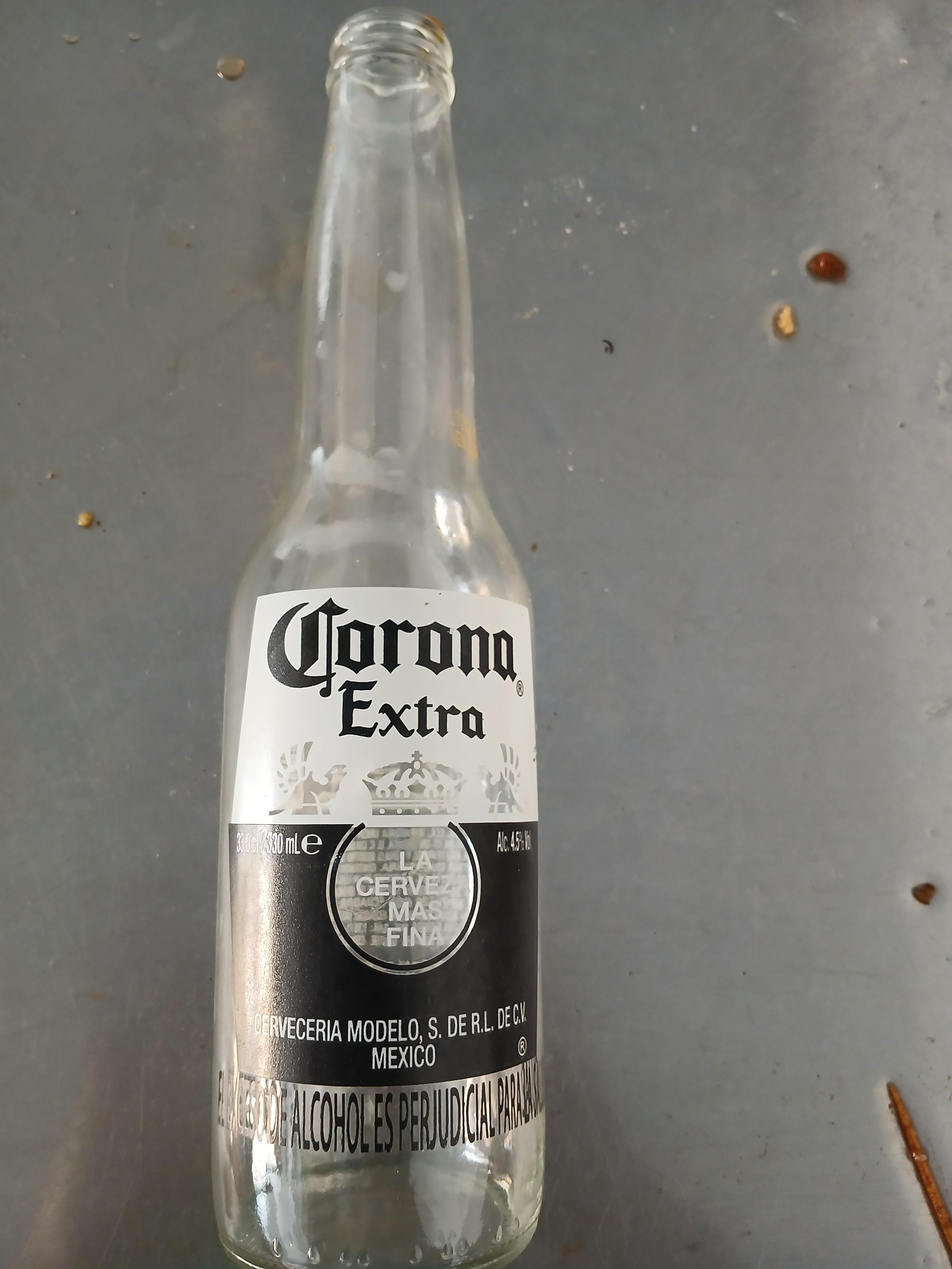Vidrio: (214, 9, 543, 1269)
